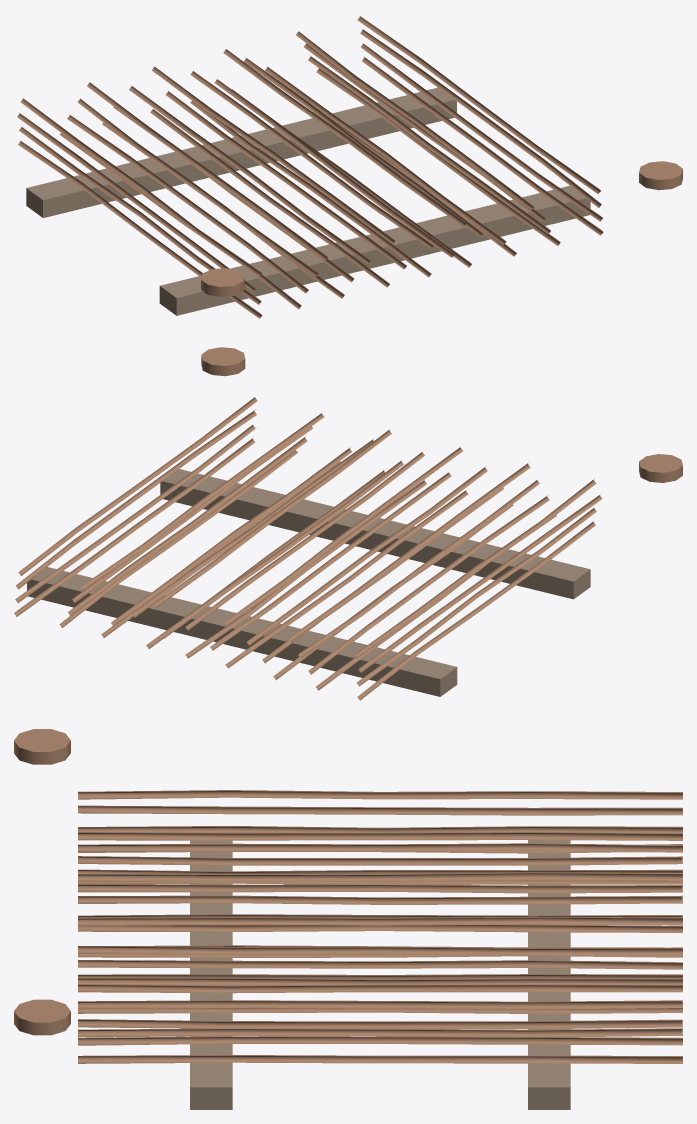
Rendered from rebar-stack.glb.
The picture shows the model from 3 angles, top to bottom: view 1: azimuth 30°, elevation 25°; view 2: azimuth 150°, elevation 25°; view 3: azimuth 270°, elevation 25°; orthographic projection. The views are drawn at different scales.
Parts seen in each view (by area): view 1: rust, wood; view 2: rust, wood; view 3: rust, wood.
Boxes of the visible parts, left/top/right/bottom form: rust: left=17, top=16, right=682, bottom=318; wood: left=26, top=87, right=590, bottom=315; rust: left=14, top=347, right=682, bottom=700; wood: left=27, top=469, right=590, bottom=696; rust: left=14, top=729, right=682, bottom=1063; wood: left=190, top=840, right=570, bottom=1109.
Size of the model in its own units: 3.9 by 0.66 by 3.76.
